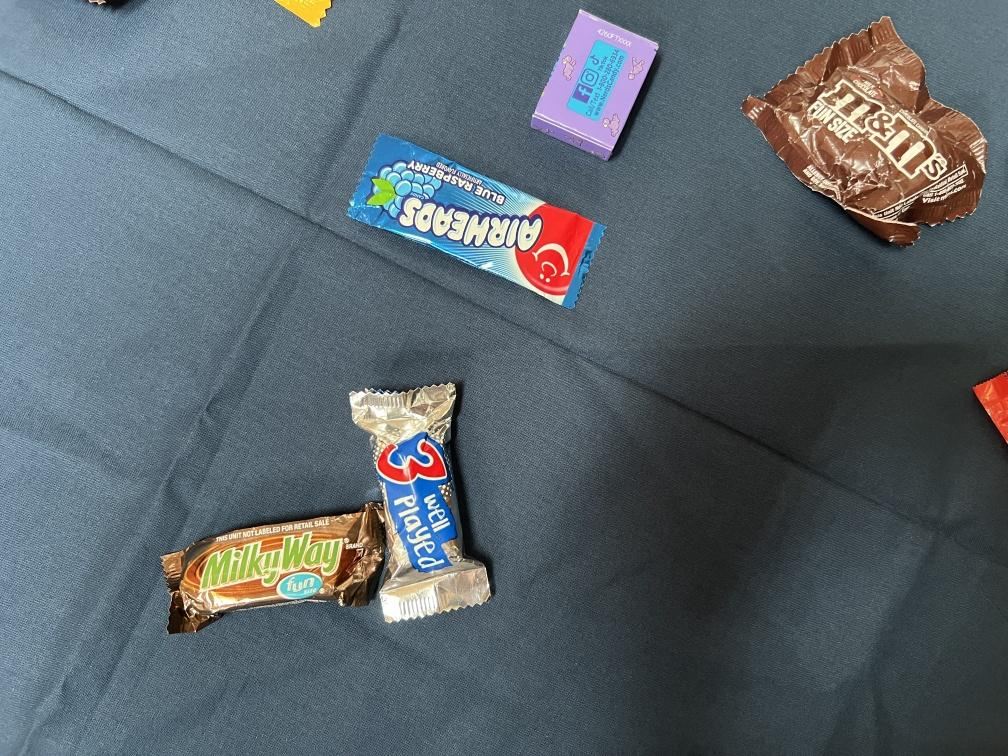MM_regular: (740, 14, 998, 244)
airheads: (344, 133, 599, 310)
milky_way: (159, 506, 390, 632)
musketeers: (351, 379, 499, 618)
nerds: (525, 8, 664, 163)
